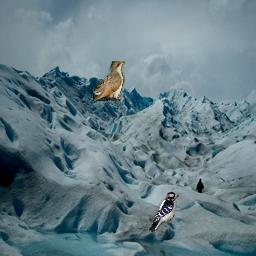Cuckoo: (93, 61, 125, 101)
Woodpecker: (148, 192, 179, 232)
